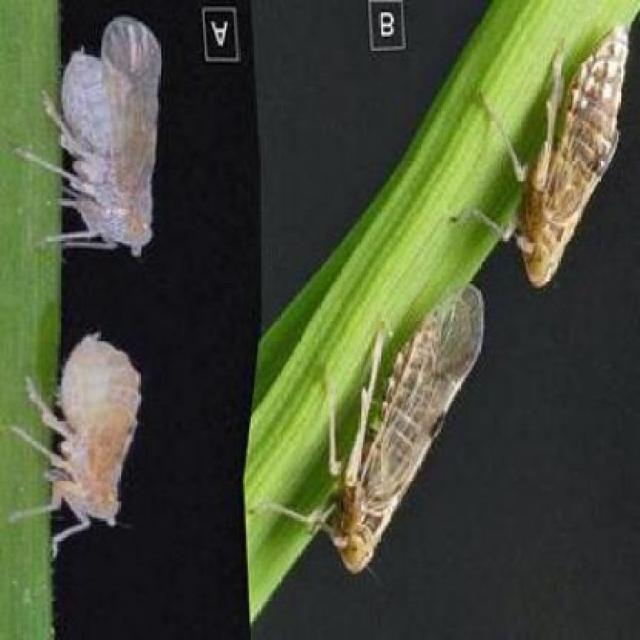brown-planthopper: (306, 281, 500, 577), (505, 20, 637, 288), (52, 21, 157, 252), (42, 342, 138, 546)
